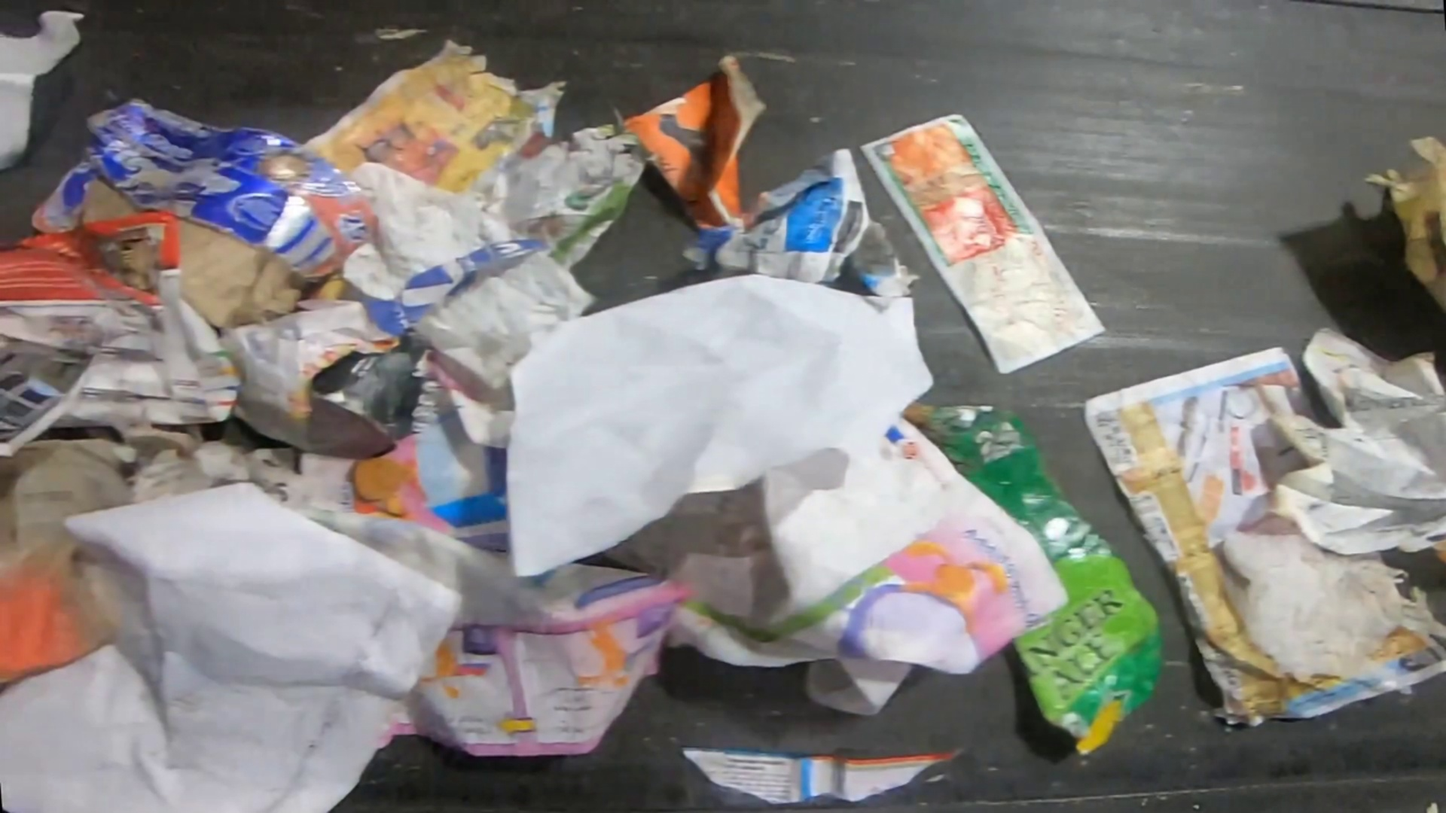cardboard: (898, 400, 1166, 759), (27, 96, 379, 329), (615, 52, 770, 234)
plastic: (1217, 522, 1446, 697)
